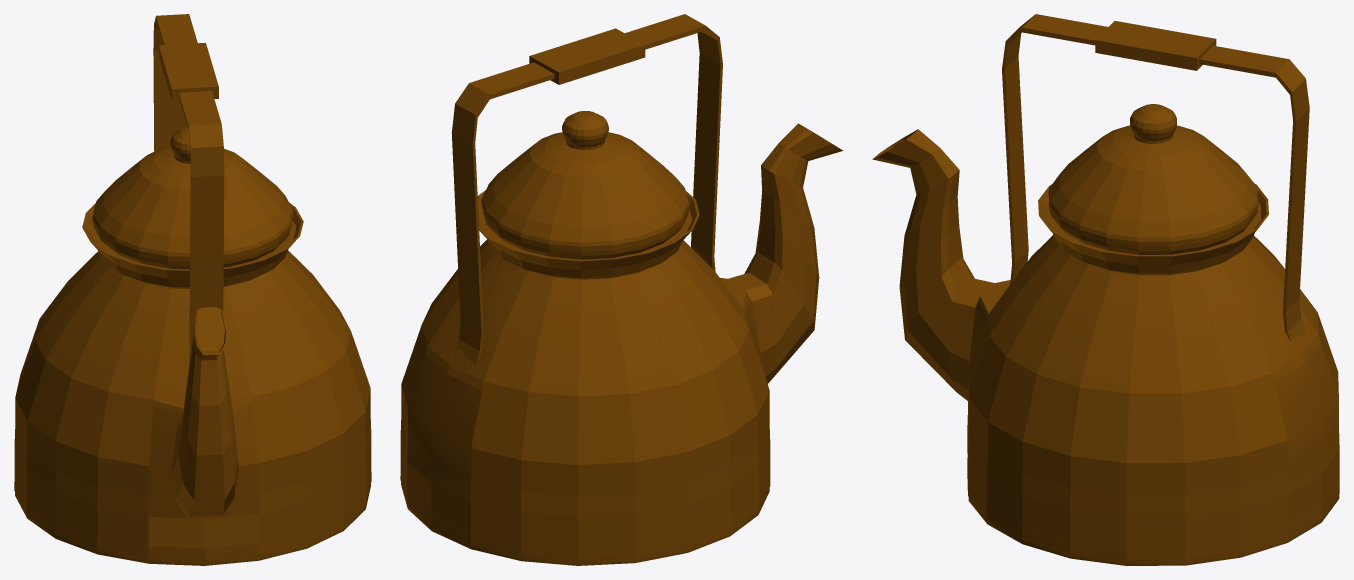
File: TT_Indian_teapot.fbx
3 renders of one model, left to right at view 1: azimuth 30°, elevation 25°; view 2: azimuth 150°, elevation 25°; view 3: azimuth 270°, elevation 25°, orthographic. The views are drawn at different scales.
Visible parts, largest first — view 1: Tea_pot_Indian1; view 2: Tea_pot_Indian1; view 3: Tea_pot_Indian1.
Part boxes in pixels (x1,y1,x2,y2): Tea_pot_Indian1: [14, 14, 371, 565]; Tea_pot_Indian1: [400, 14, 843, 565]; Tea_pot_Indian1: [872, 14, 1339, 565].
Bounding box in the file's own units: 20.72 × 27.45 × 26.01.
